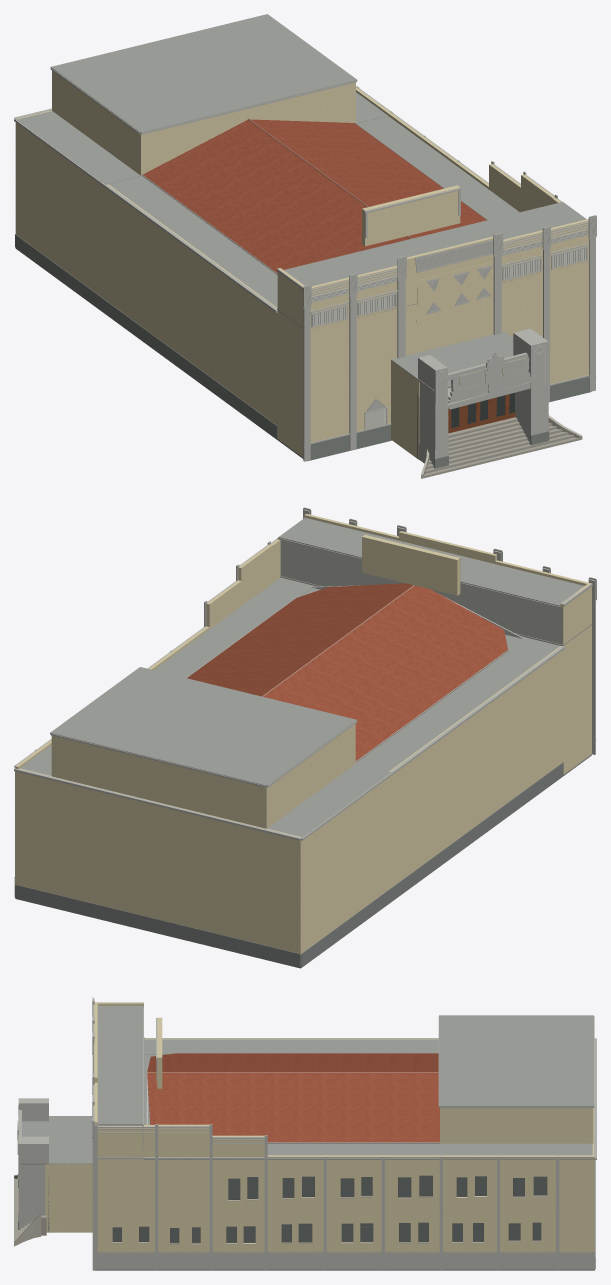
Rendered from lod-source.glb.
3 renders of one model, top to bottom at view 1: azimuth 30°, elevation 25°; view 2: azimuth 150°, elevation 25°; view 3: azimuth 270°, elevation 25°, orthographic. The views are drawn at different scales.
Parts seen in each view (by area): view 1: 上海中学历史大礼堂; view 2: 上海中学历史大礼堂; view 3: 上海中学历史大礼堂.
Part boxes in pixels (bbox=[...]): 上海中学历史大礼堂: bbox=[14, 14, 596, 478]; 上海中学历史大礼堂: bbox=[14, 507, 596, 968]; 上海中学历史大礼堂: bbox=[14, 997, 596, 1270].
Size of the model in its own units: 32.35 by 21.19 by 64.75.
16 materials, 4 textured.
